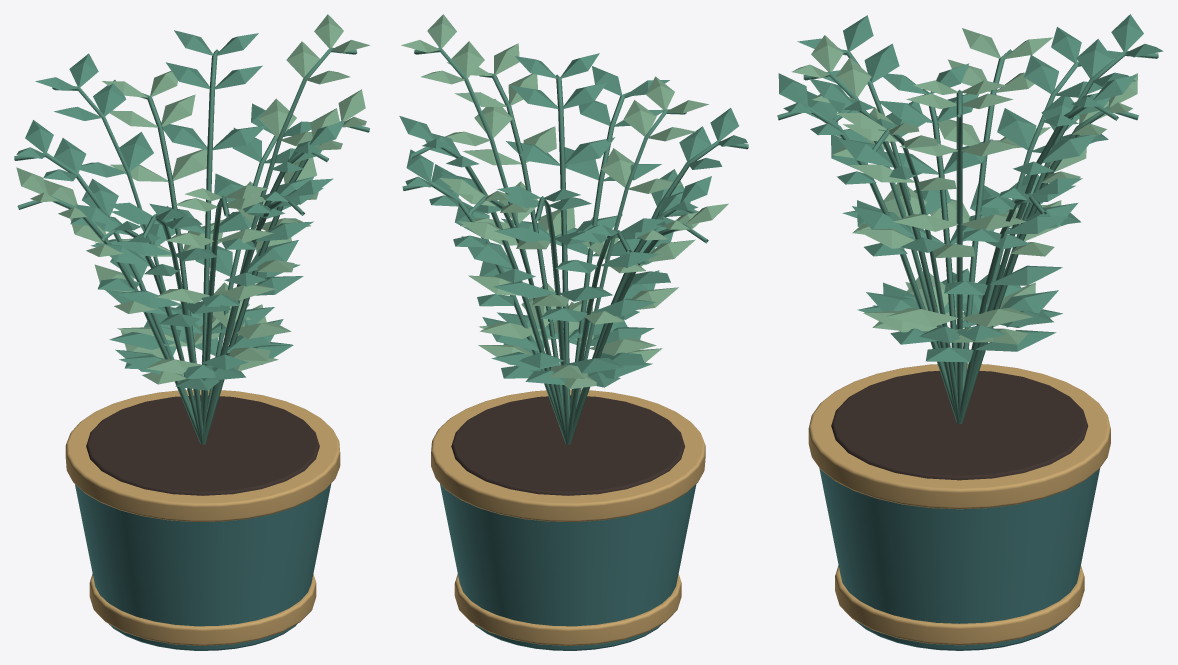
Rendered from winter_fern.glb.
3 views of the same model, side by side, from view 1: azimuth 30°, elevation 25°; view 2: azimuth 150°, elevation 25°; view 3: azimuth 270°, elevation 25° (orthographic). The views are drawn at different scales.
Parts seen in each view (by area): view 1: winter_fern; view 2: winter_fern; view 3: winter_fern.
Boxes of the visible parts, x1,y1,x2,y2 form: winter_fern: (14, 14, 369, 650); winter_fern: (399, 14, 748, 650); winter_fern: (777, 14, 1163, 650).
Size of the model in its own units: 1.06 by 1.74 by 1.02.
